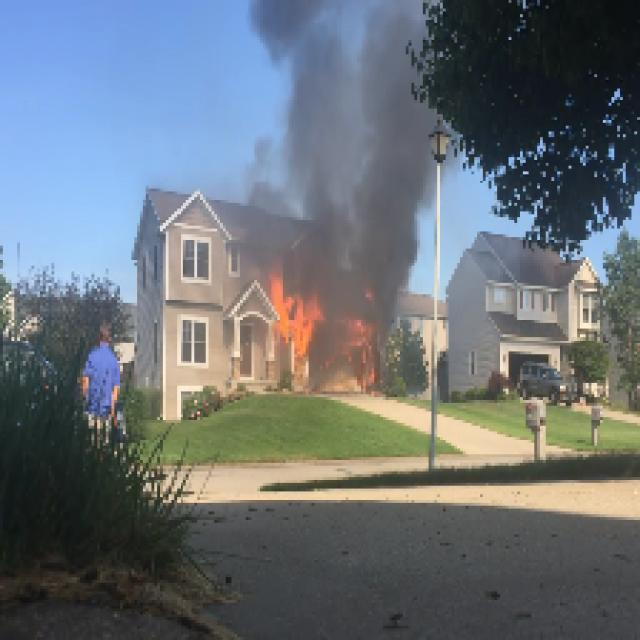smoke: (295, 10, 415, 292)
